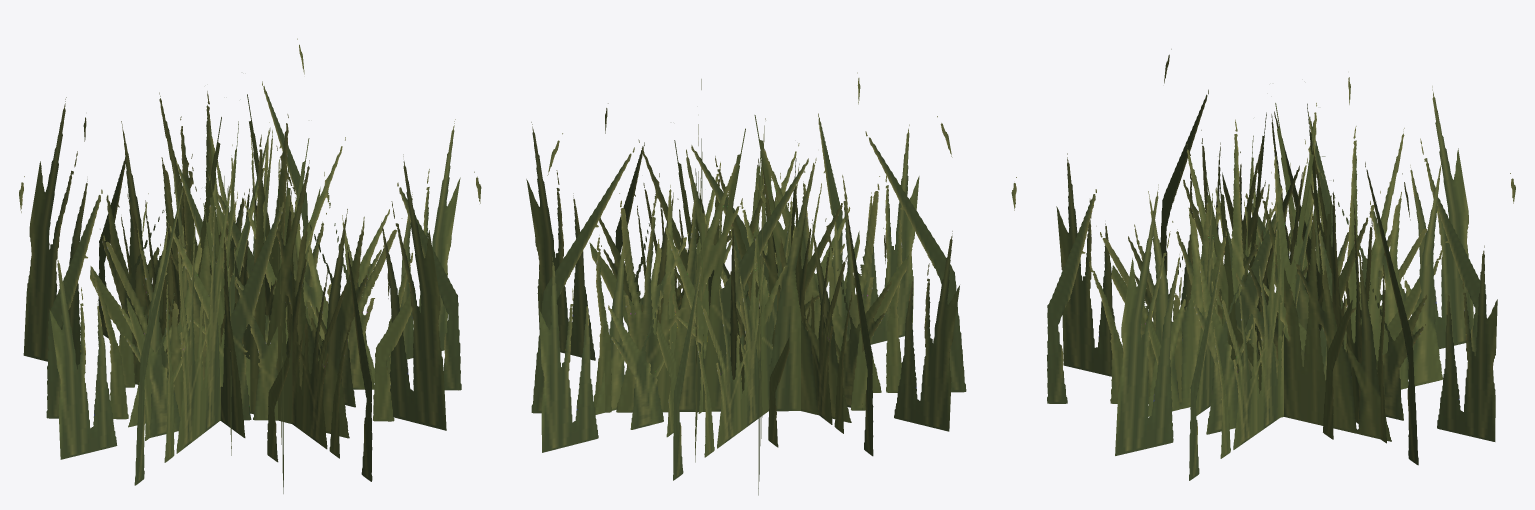
File: grass_patch_large.glb
3 views of the same model, side by side, from view 1: azimuth 30°, elevation 25°; view 2: azimuth 150°, elevation 25°; view 3: azimuth 270°, elevation 25° (orthographic). The views are drawn at different scales.
Visible parts, largest first — view 1: outdoor_grass_patch_large; view 2: outdoor_grass_patch_large; view 3: outdoor_grass_patch_large.
Boxes of the visible parts, x1,y1,x2,y2 form: outdoor_grass_patch_large: (19,38,481,493); outdoor_grass_patch_large: (526,72,966,495); outdoor_grass_patch_large: (1011,49,1515,480).
Size of the model in its own units: 0.95 by 0.62 by 0.95.
Materials: 1 (1 with a texture image).
